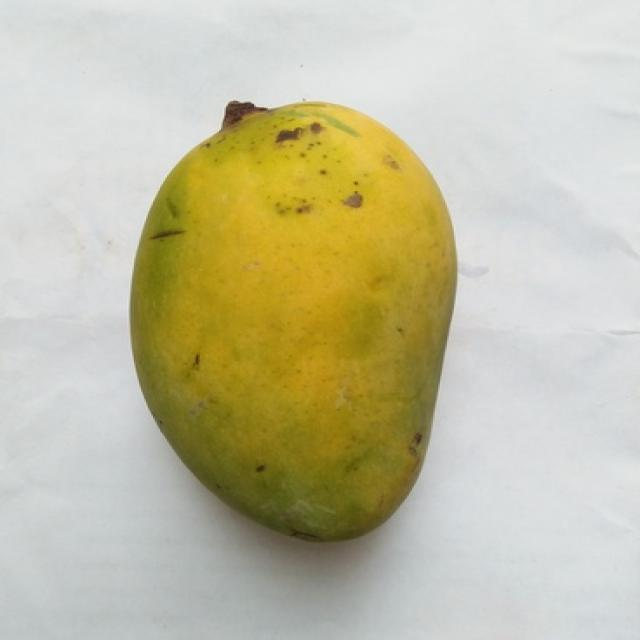Mango: (130, 103, 456, 540)
